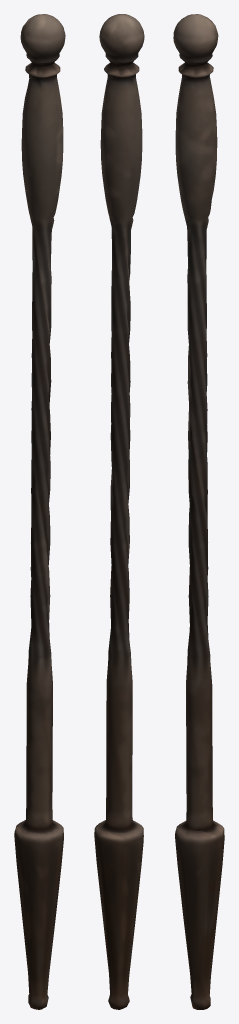
The model's file is SM_FireToolssticktwisted.FBX.
3 renders of one model, left to right at view 1: azimuth 90°, elevation 25°; view 2: azimuth 150°, elevation 25°; view 3: azimuth 270°, elevation 25°, orthographic.
Parts seen in each view (by area): view 1: SM_FireToolssticktwisted; view 2: SM_FireToolssticktwisted; view 3: SM_FireToolssticktwisted.
Boxes of the visible parts, box(x1,y1,x2,y2) form: SM_FireToolssticktwisted: box(14, 14, 65, 1009); SM_FireToolssticktwisted: box(94, 14, 144, 1009); SM_FireToolssticktwisted: box(173, 14, 224, 1009).
Size of what is drawn, in the model's own units: 4.62 by 4.69 by 101.
